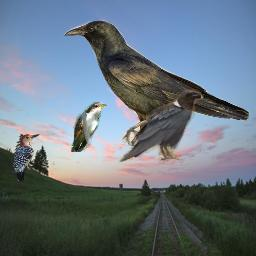Crow: (62, 19, 251, 146), (117, 89, 204, 166)
Cuckoo: (71, 102, 107, 152)
Woodpecker: (12, 134, 40, 181)
